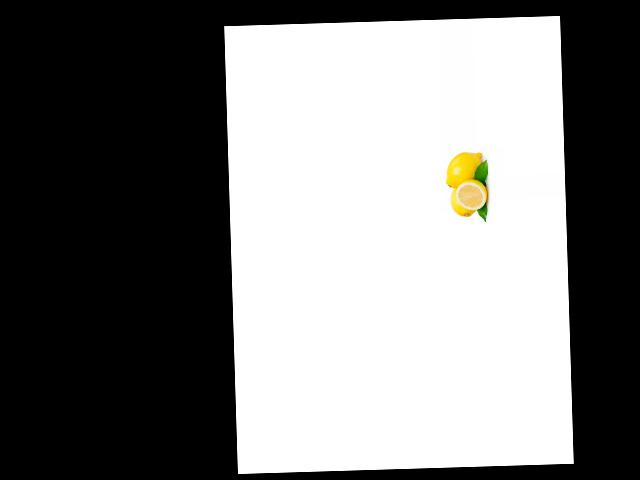lemon: (455, 178, 490, 209)
